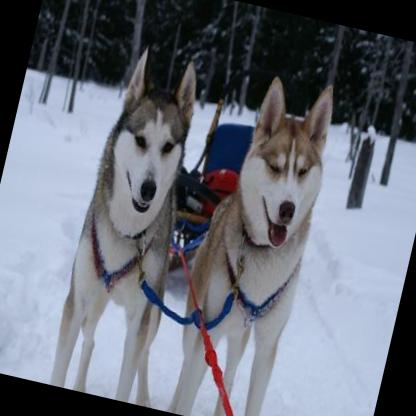Eskimo_dog: (46, 40, 230, 406), (161, 59, 346, 416)
